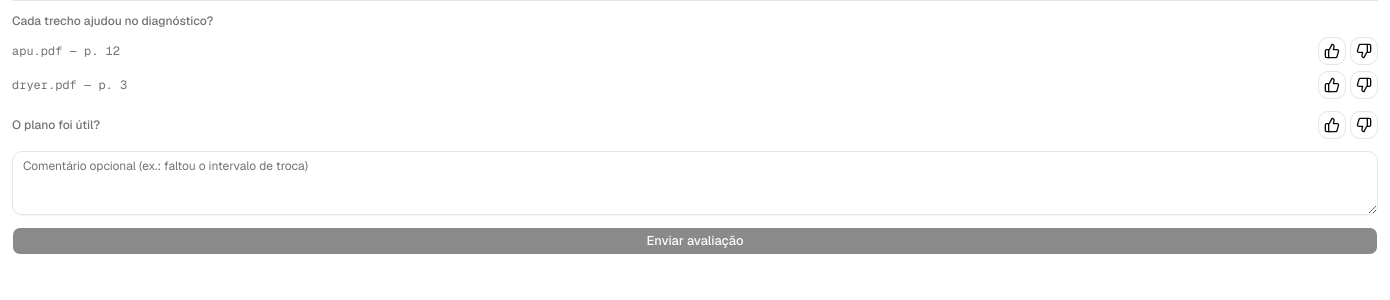
Test case: SuggestionFeedback › mostra a mensagem de permissão em 403
The width and height of the screenshot is (1390, 300).
Click the button named "Plano: não relevante" at (1364, 125), box left=1350, top=111, right=1378, bottom=139
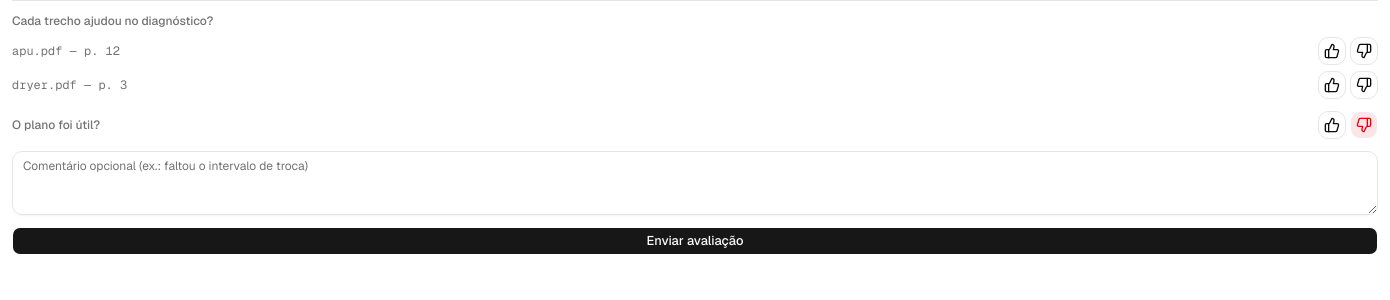
Click the button "Enviar avaliação" at (695, 241), box left=12, top=227, right=1378, bottom=255
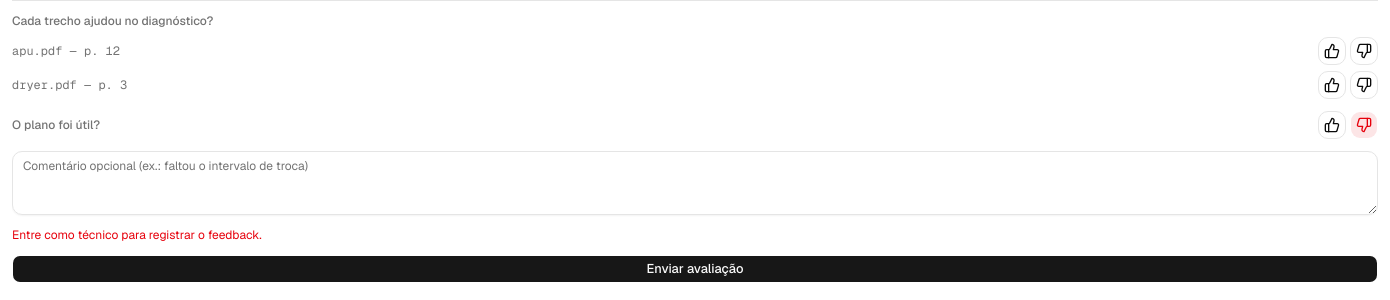
Result: the message reads "Entre como técnico para registrar o feedback." at left=12, top=227, right=262, bottom=243
